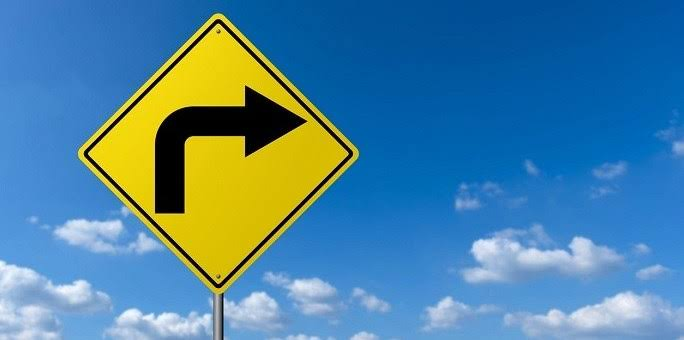right: (63, 6, 382, 298), (134, 61, 414, 175), (209, 8, 368, 202), (237, 15, 393, 189), (165, 69, 359, 172), (242, 22, 329, 220), (237, 64, 365, 176)
